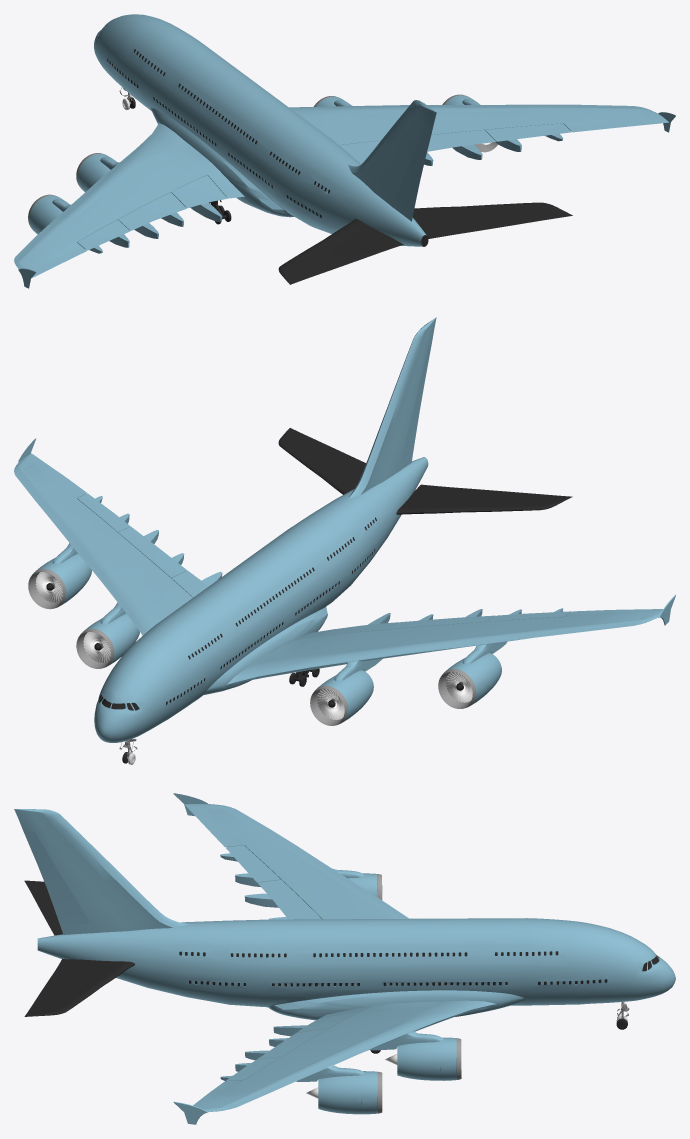
The picture shows the model from 3 angles, top to bottom: view 1: azimuth 30°, elevation 25°; view 2: azimuth 150°, elevation 25°; view 3: azimuth 270°, elevation 25°; orthographic projection.
Parts seen in each view (by area): view 1: chassis01, rudder01; view 2: chassis01, rudder01; view 3: chassis01, rudder01.
Part boxes in pixels (box(x1,y1,x2,y2)): chassis01: box(14, 14, 675, 288); rudder01: box(395, 127, 431, 213); chassis01: box(14, 317, 675, 742); rudder01: box(401, 343, 431, 459); chassis01: box(14, 793, 675, 1124); rudder01: box(23, 831, 89, 925).
Bounding box in the file's own units: 6517 × 2172 × 5896.
